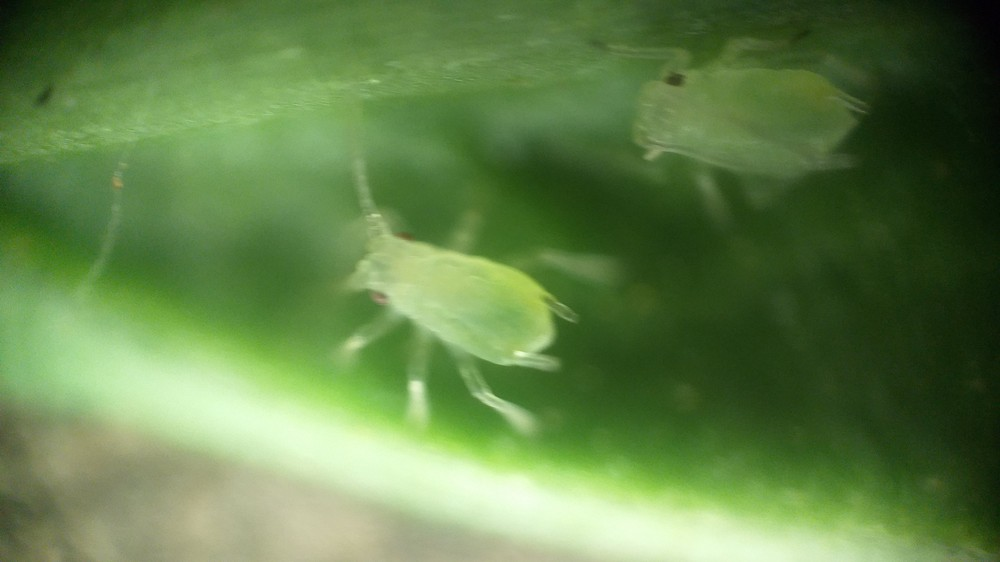Pulgon: (305, 164, 603, 449), (608, 30, 909, 225)
